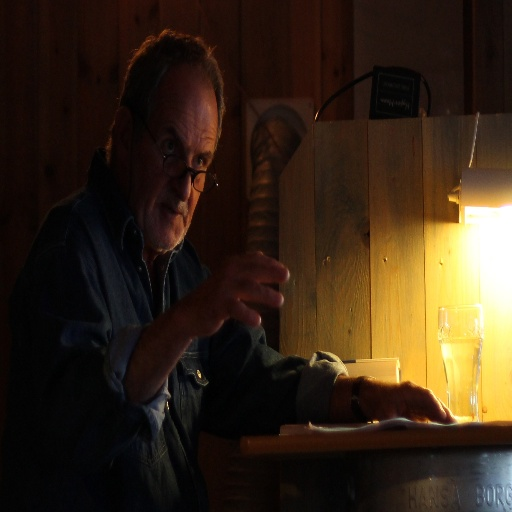hand: (179, 254, 291, 339), (370, 378, 455, 420)
